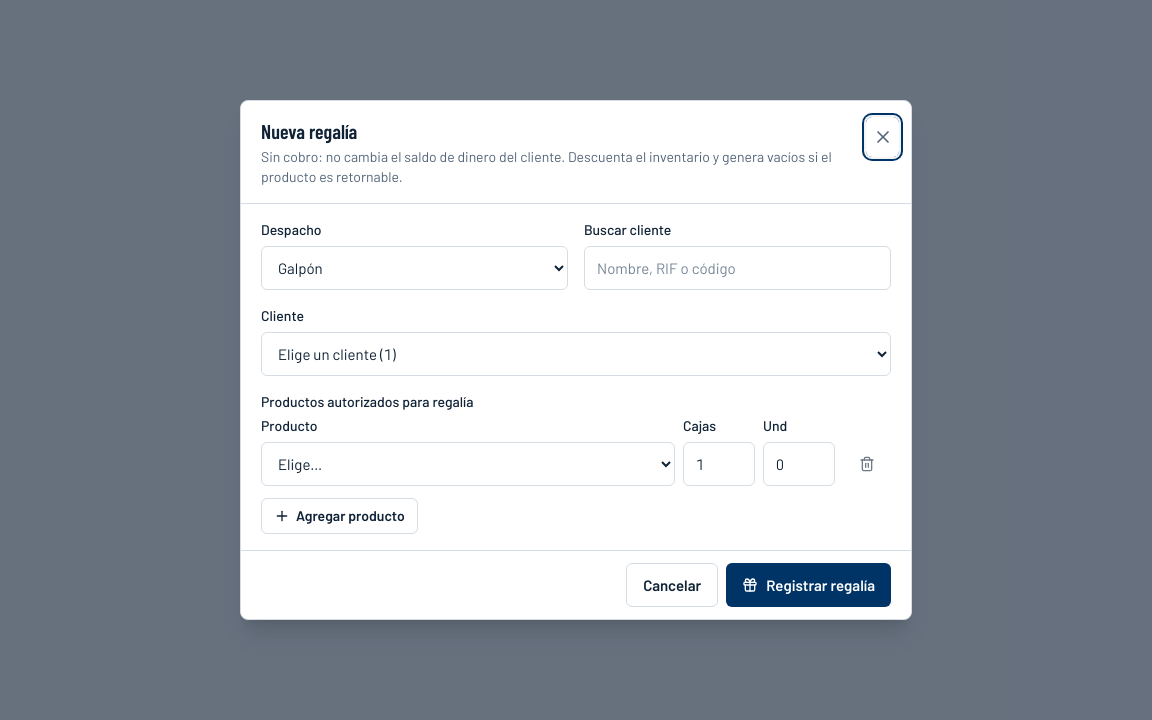
Test: GiftDialog › muestra el error RFC 7807 de la API junto al campo o arriba si es una regla de negocio
Select "001 Bodega La Esquina" in the dropdown labelled "Cliente" at (576, 354), box [261,332,891,376]
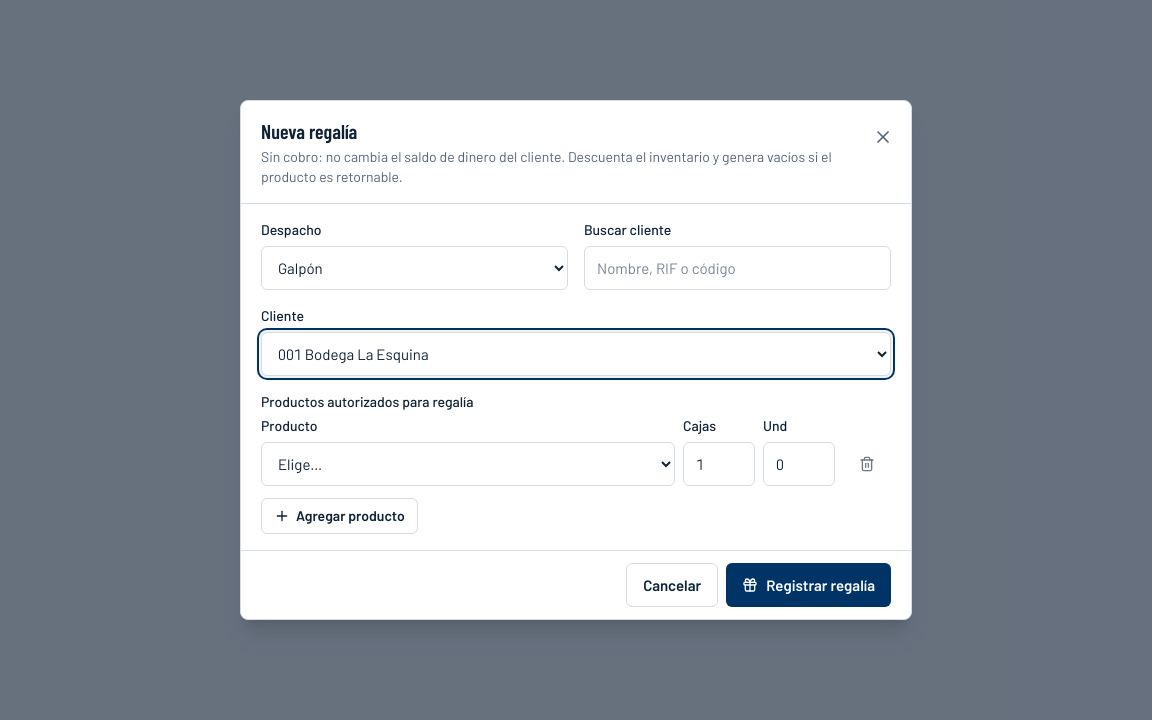
Select "POLAR PILSEN RET 222MLx36UN (10 cajas), retornable" in the dropdown labelled "Producto" at (468, 464), box [261,442,675,486]
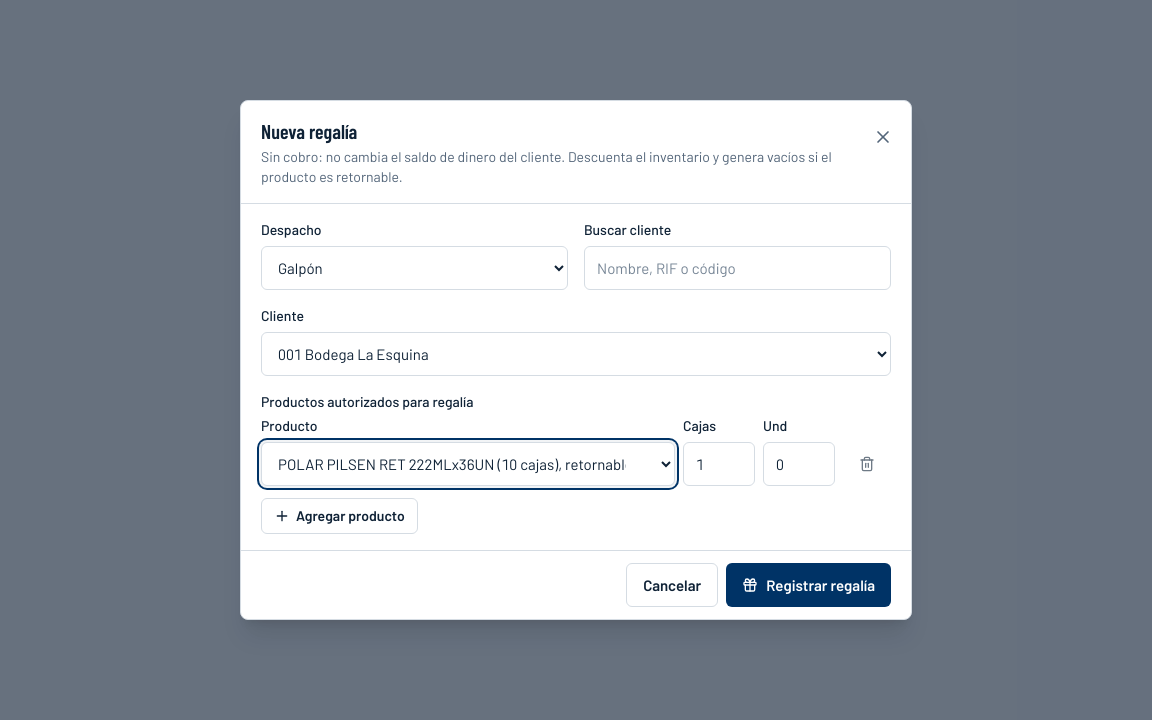
Click the button "Registrar regalía".
click(809, 585)  # box [726,563,891,607]
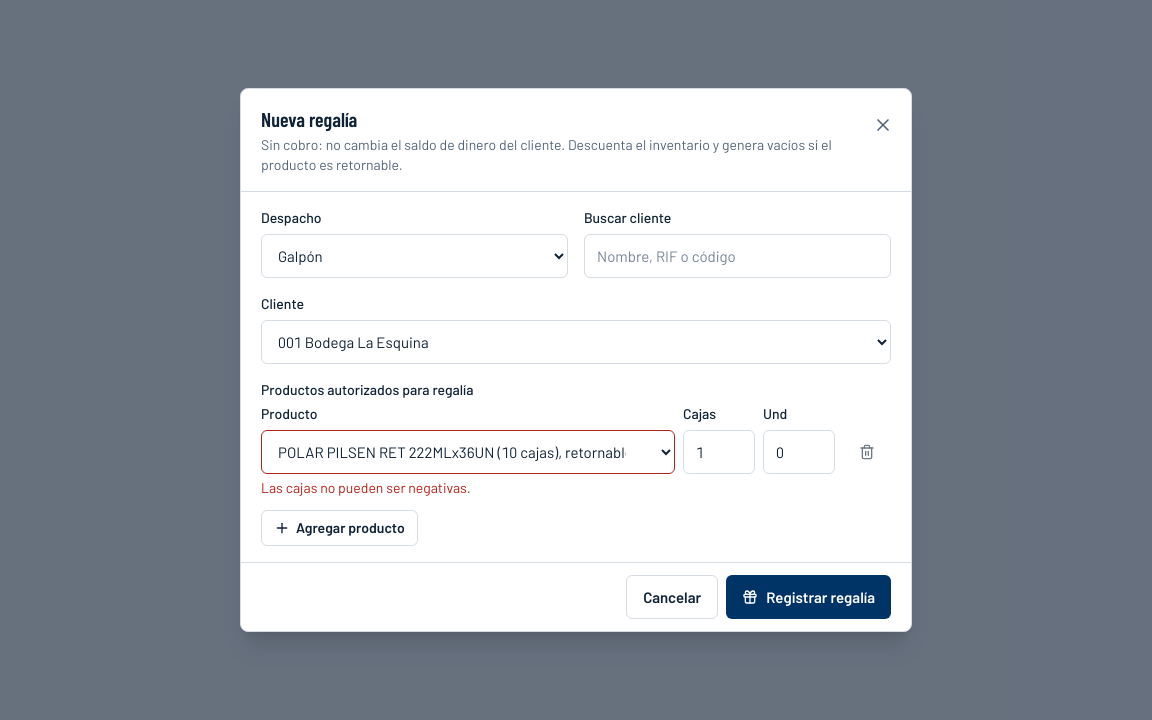
Now the text "Las cajas no pueden ser negativas." is shown, box [261,479,471,496]
Click the button "Registrar regalía".
click(809, 597)  # box [726,575,891,619]
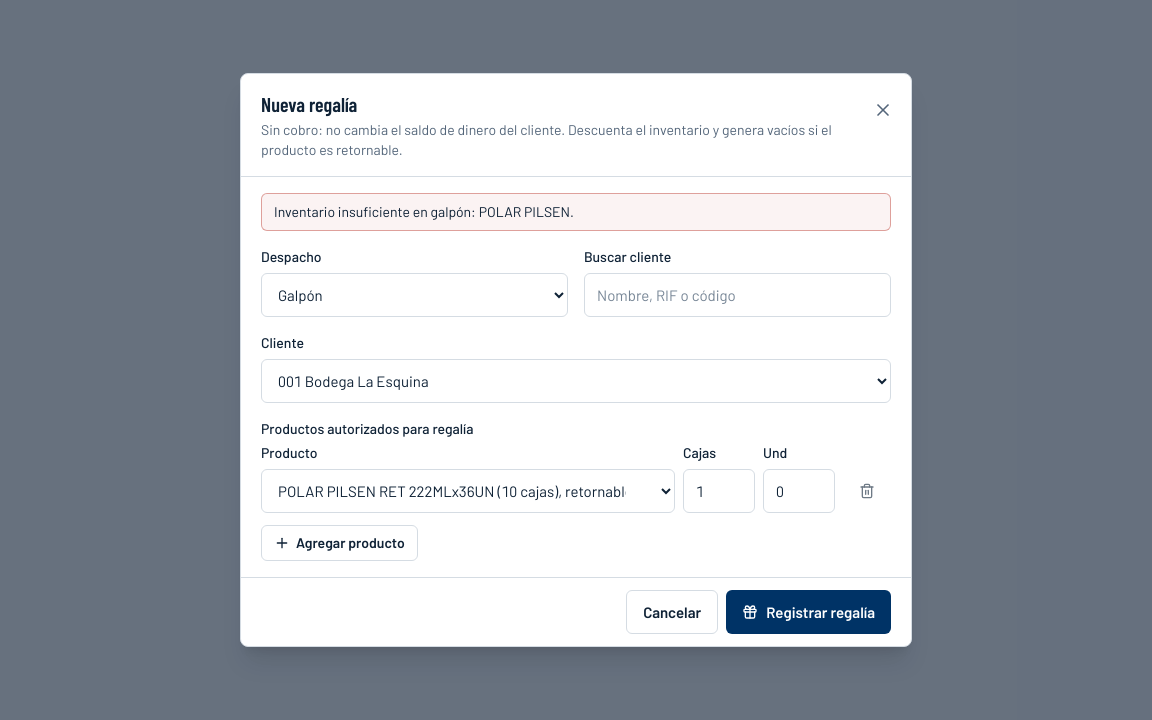
Now the text "Inventario insuficiente en galpón: POLAR PILSEN." is shown, box [261,193,891,231]
